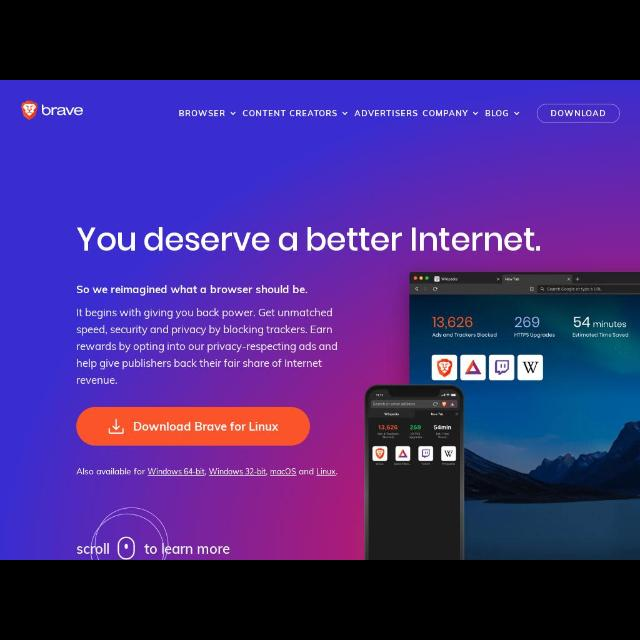icon: (229, 110, 237, 118), (514, 109, 522, 117), (340, 110, 350, 116), (472, 109, 478, 117)
image: (366, 273, 638, 559), (18, 98, 86, 120)
link: (209, 467, 267, 478), (147, 466, 205, 476), (270, 467, 298, 478), (316, 467, 336, 478)
multitab: (172, 100, 524, 128)
spinner: (352, 100, 480, 128), (243, 102, 351, 128), (172, 102, 238, 130), (482, 101, 524, 129)
text: (75, 308, 338, 384), (73, 224, 544, 252), (76, 466, 342, 482), (75, 284, 308, 298), (243, 105, 337, 123), (356, 109, 468, 121), (143, 544, 233, 556), (178, 105, 226, 121), (75, 543, 111, 557), (482, 108, 510, 120)
textbutton: (74, 408, 310, 446), (538, 103, 620, 125)
